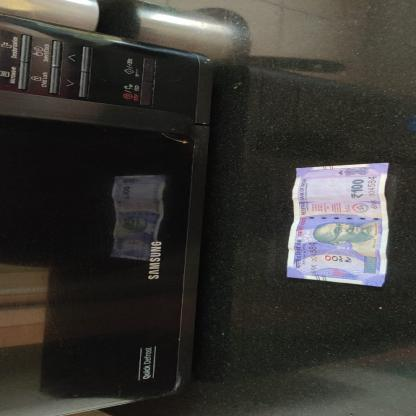New100Front: (282, 160, 392, 288)
